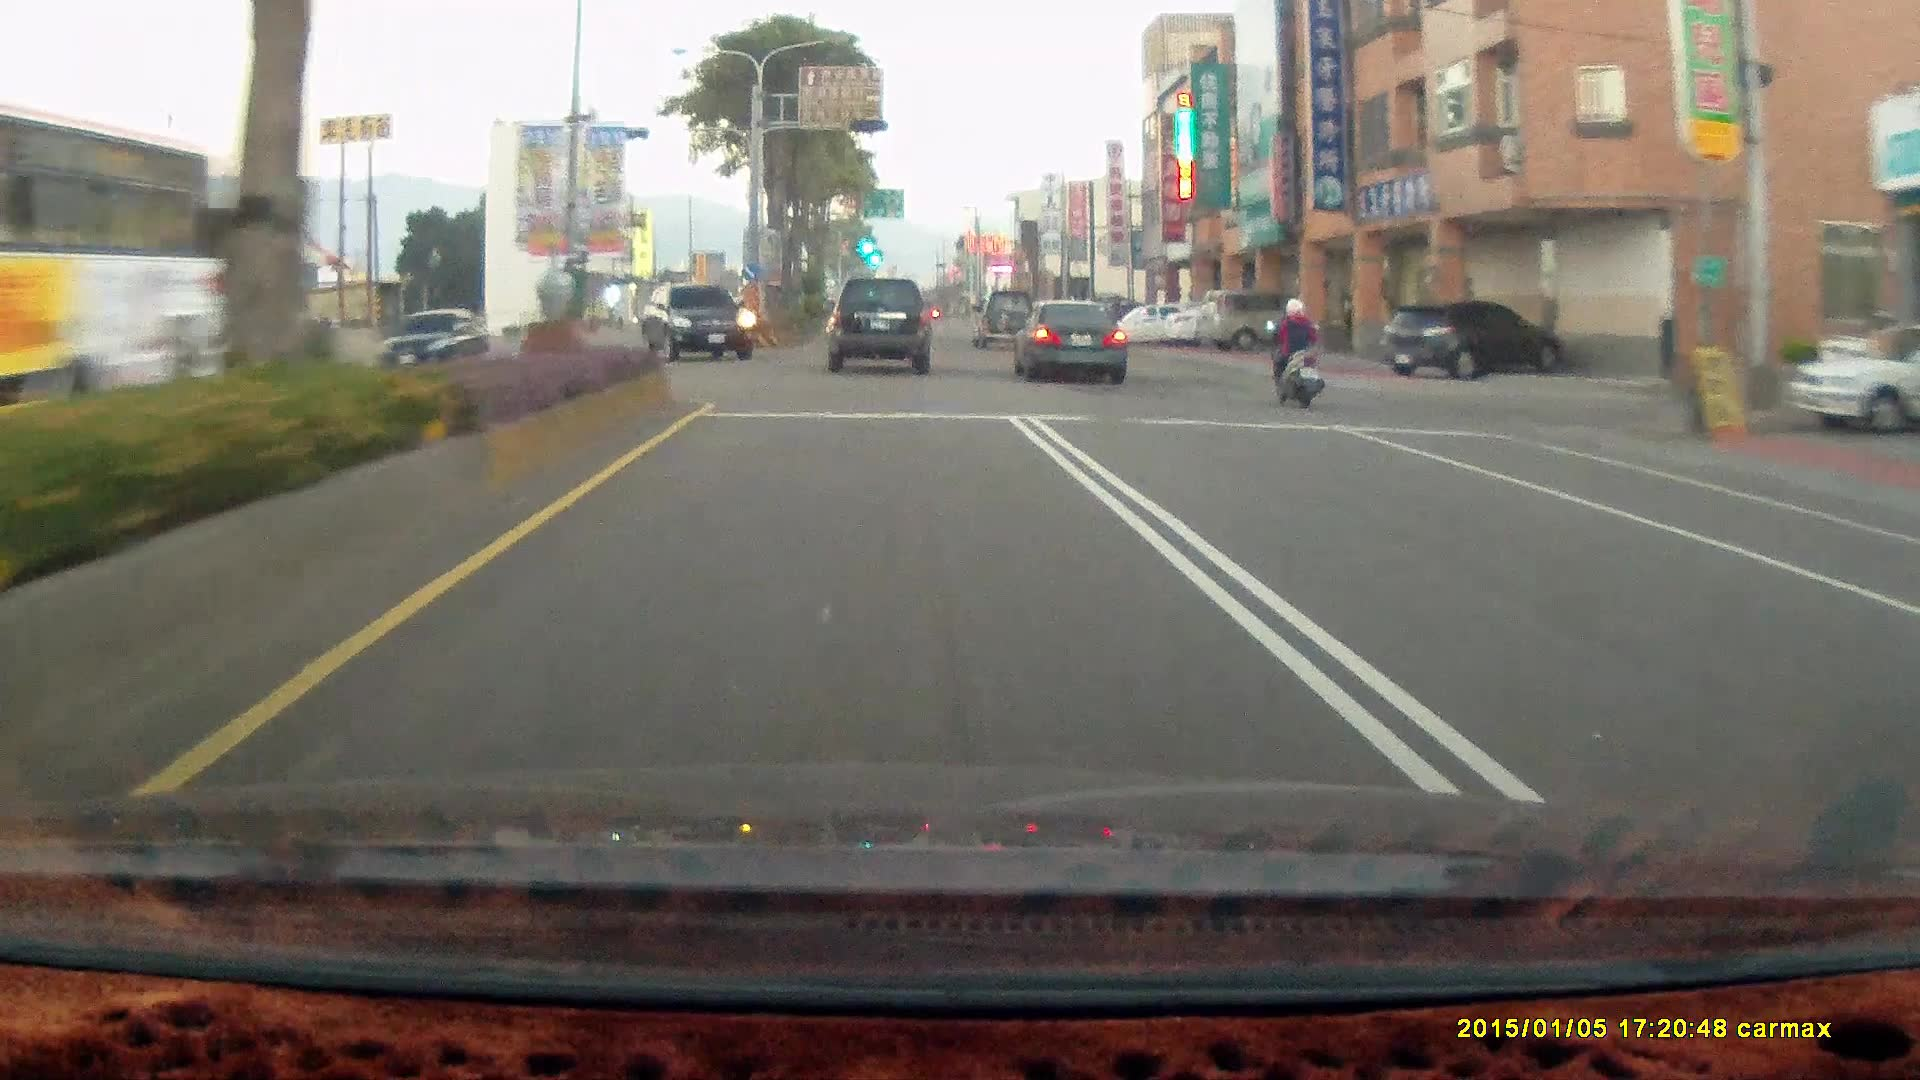rider: (1256, 289, 1335, 416), (1268, 299, 1327, 410)
vehicle: (0, 110, 212, 466), (1377, 300, 1564, 380), (1382, 302, 1569, 379), (1787, 331, 1920, 434), (1785, 335, 1920, 435), (825, 281, 932, 377), (1009, 295, 1127, 381), (826, 276, 931, 372), (1010, 301, 1128, 384), (639, 279, 754, 362), (640, 289, 757, 365), (373, 306, 491, 376), (1192, 290, 1316, 353), (1192, 292, 1306, 356), (1102, 299, 1208, 347), (971, 289, 1039, 351)
